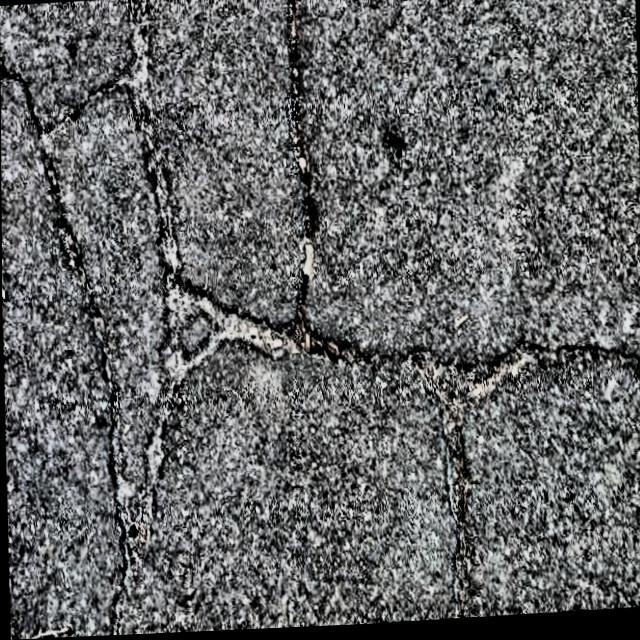cracks: (289, 0, 313, 353)
